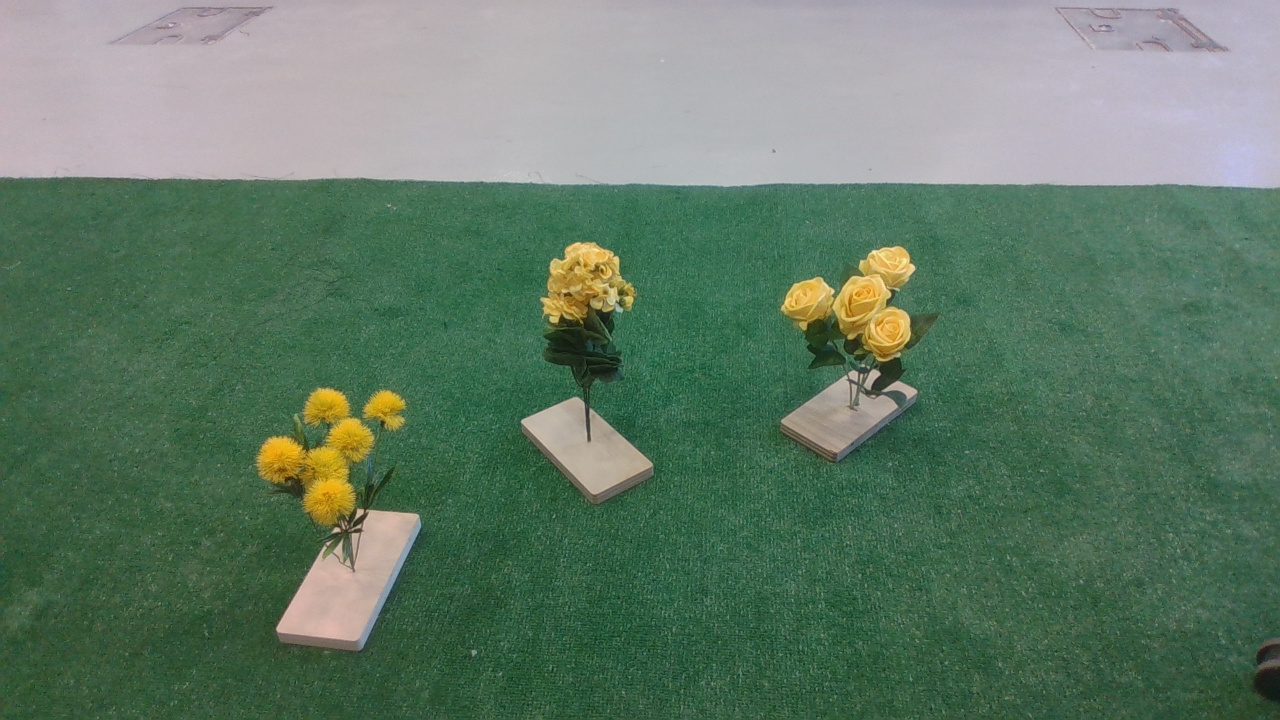dandelion: (257, 381, 417, 547)
geranium: (508, 235, 661, 420)
rose: (784, 238, 940, 380)
